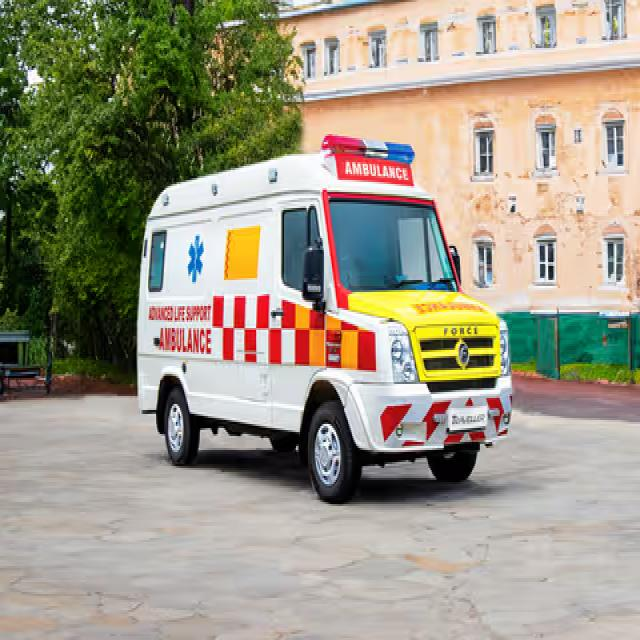Ambulance: (118, 111, 536, 538)
